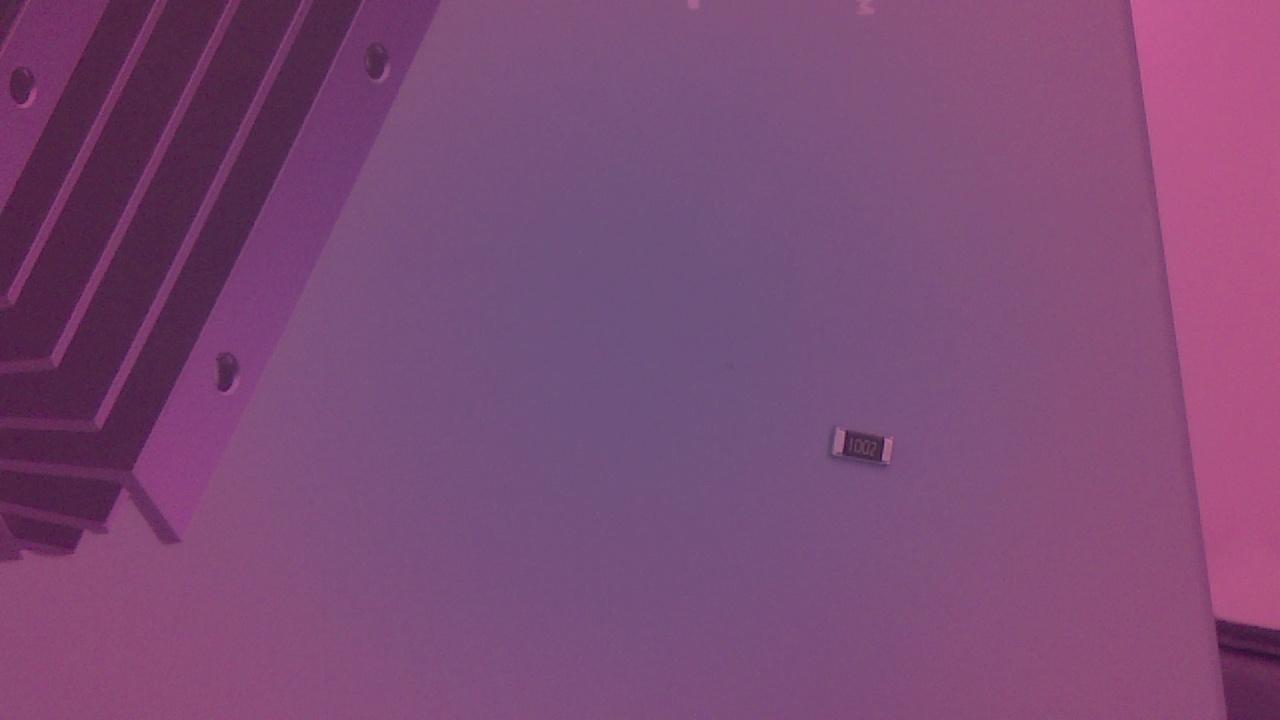Resistor: (831, 428, 904, 479)
